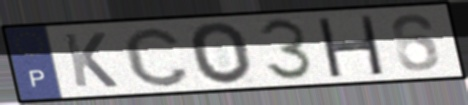3: (256, 16, 316, 83)
6: (389, 12, 442, 73)
C: (120, 25, 193, 89)
H: (313, 15, 386, 77)
K: (60, 30, 121, 89)
O: (187, 20, 257, 87)
